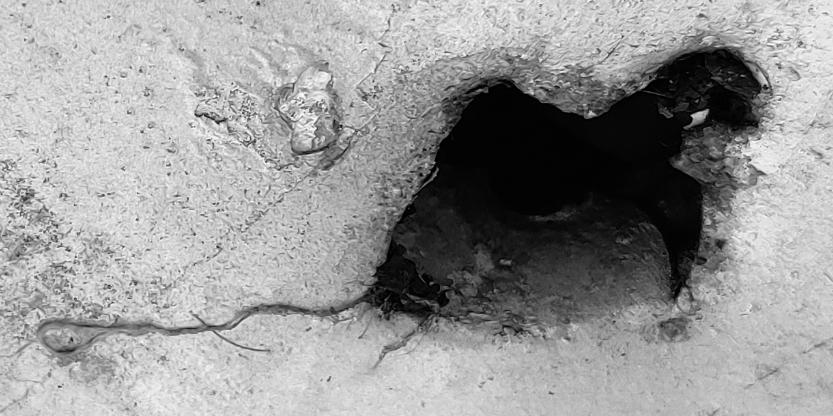crack: (1, 1, 833, 416)
